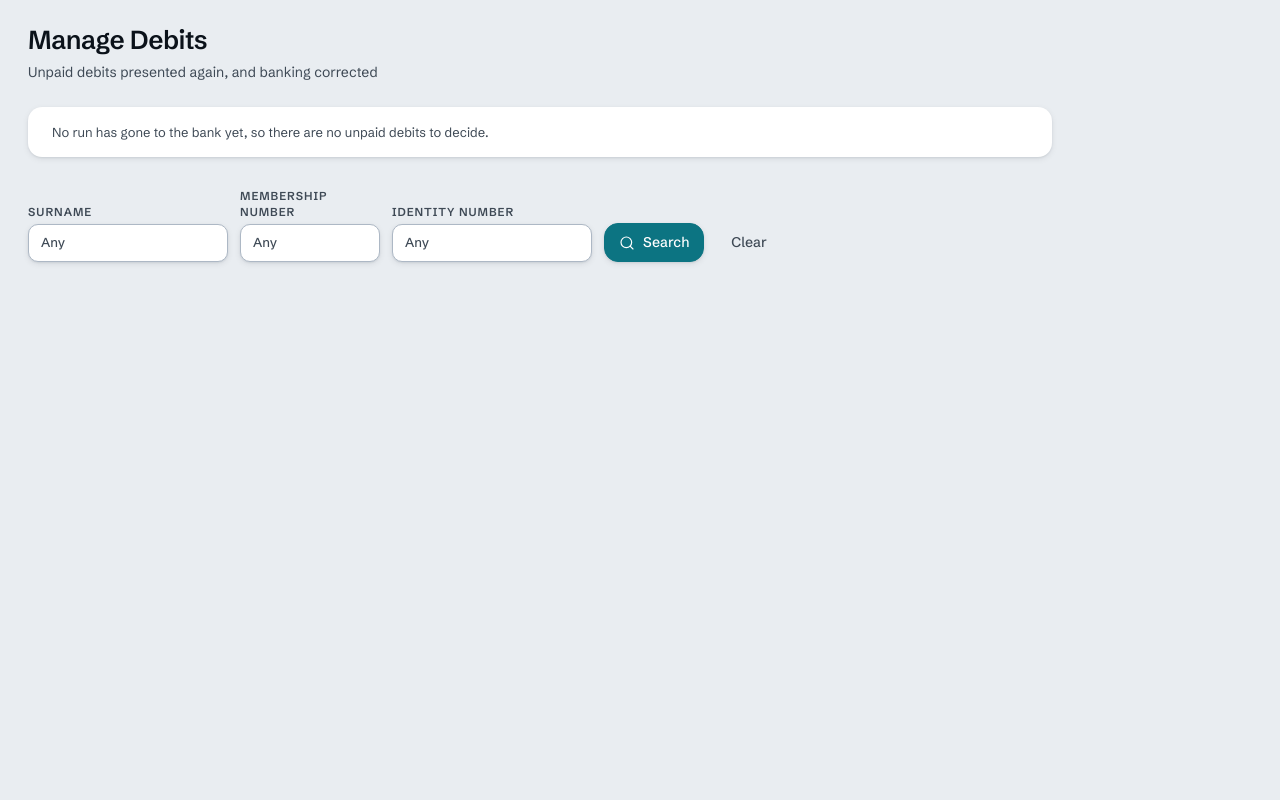
AcbDebits, choosing a member › the must-pass: a record that loads opens with its banking details
In the field labelled "Surname": (128, 243) [28, 224, 228, 262], type "Testperson"
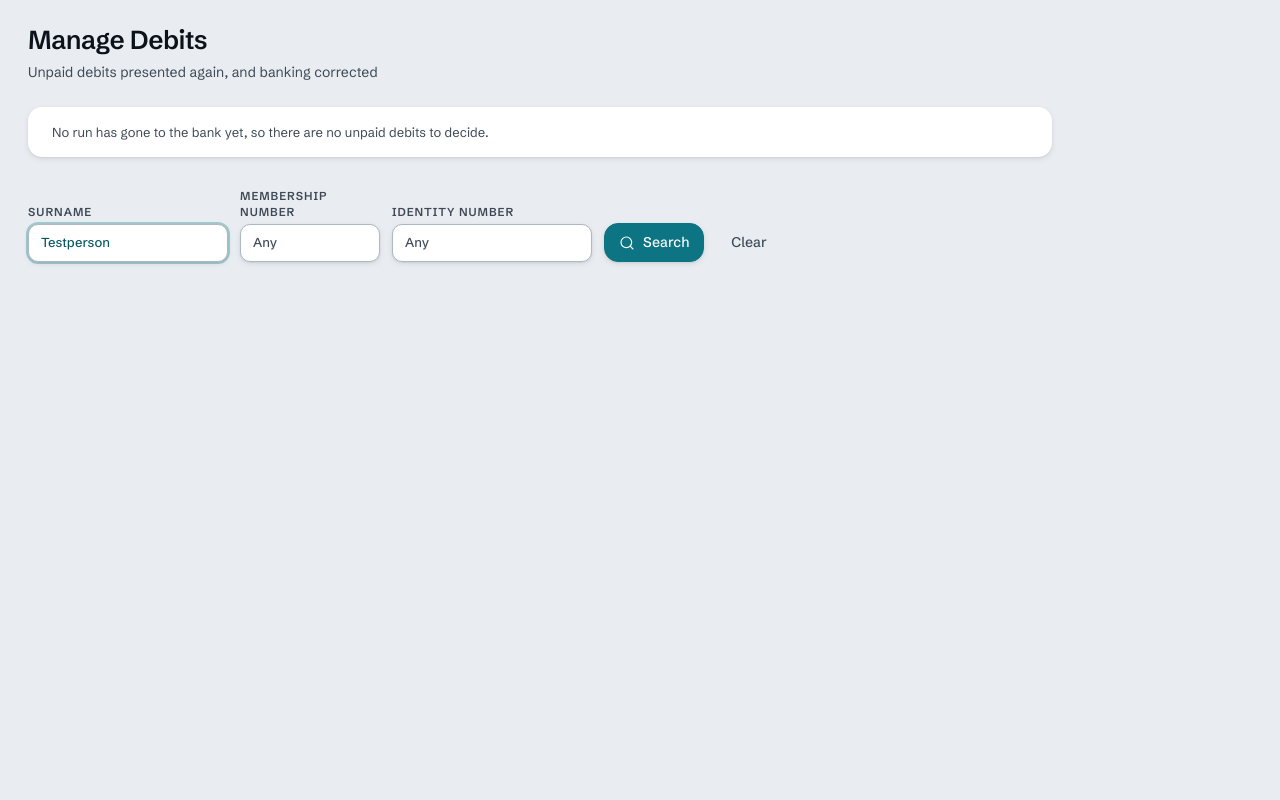
Click the button "Search": (654, 243) [604, 223, 704, 262]
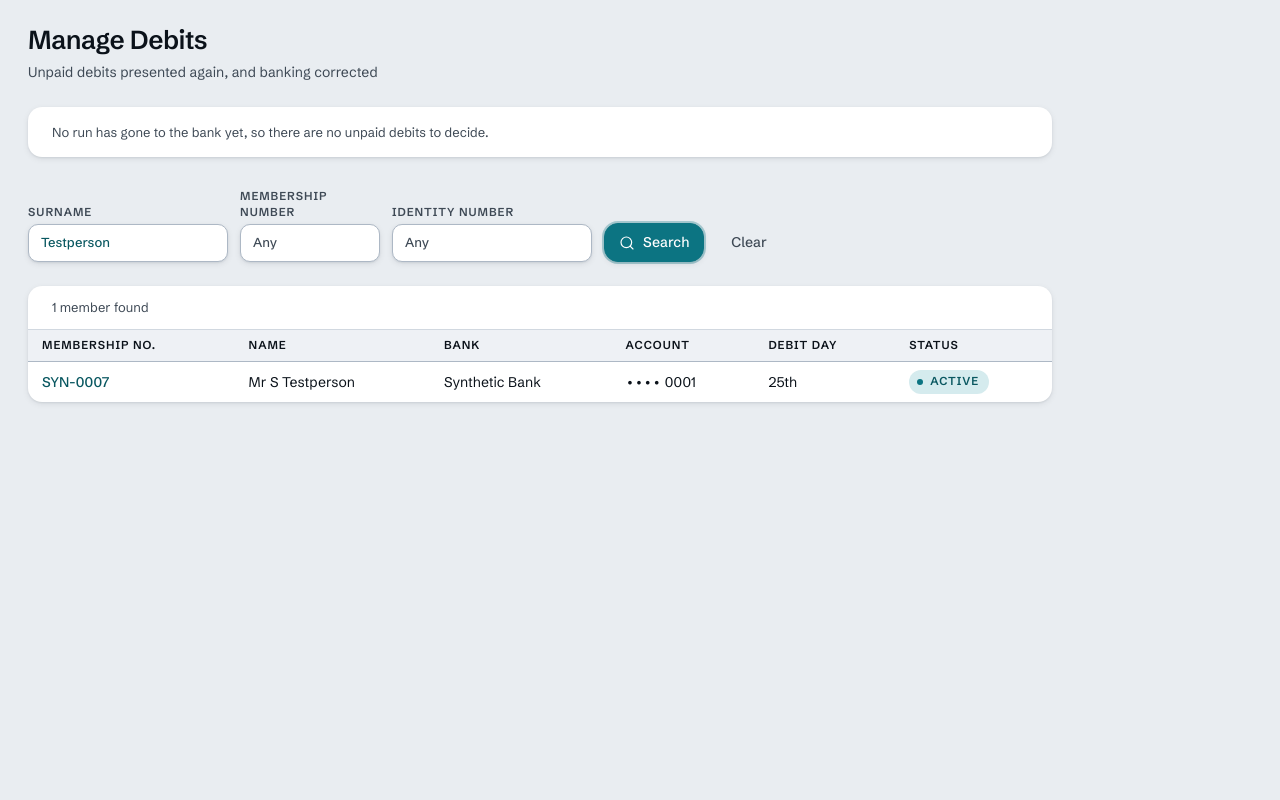
Click the button with aria-label "load banking details": (76, 382) [42, 372, 109, 392]
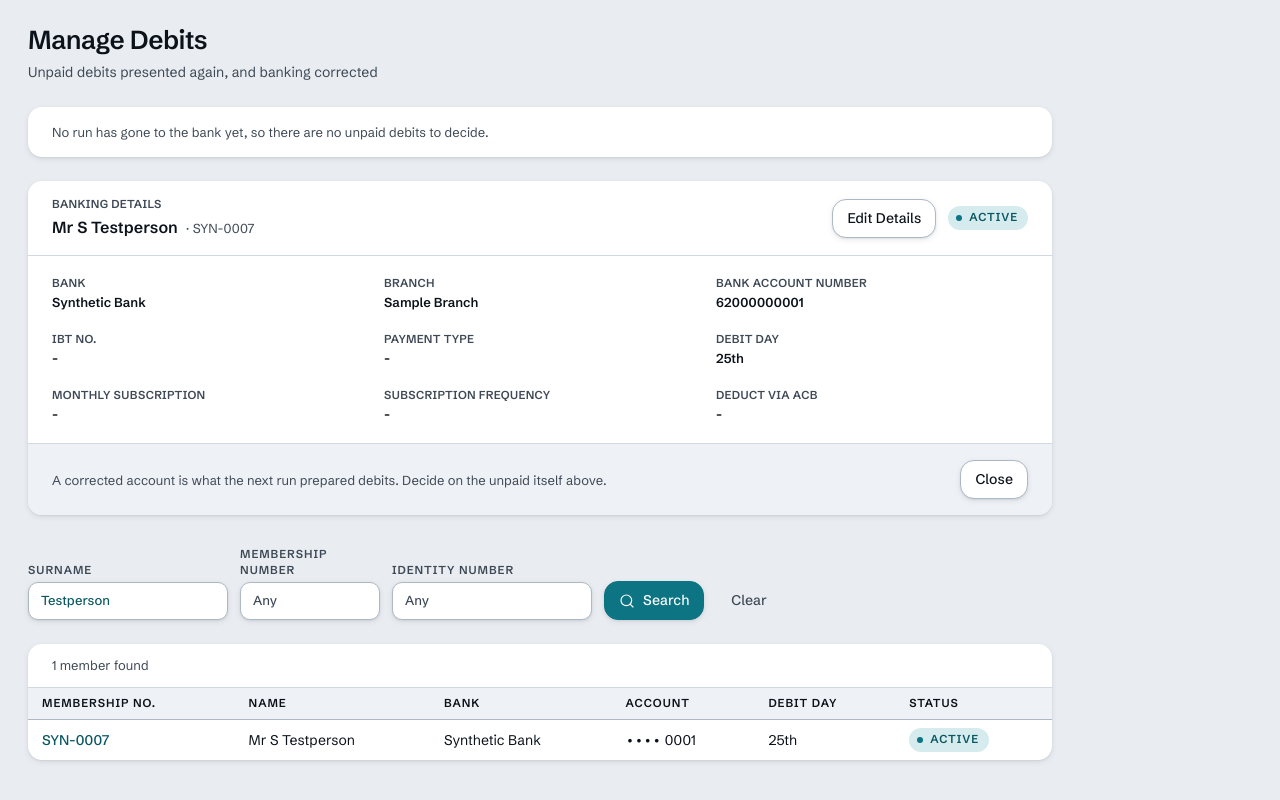
Result: the text "62000000001" is shown at [716, 294, 804, 310]
Result: the button "Edit Details" is shown at [832, 199, 936, 238]
